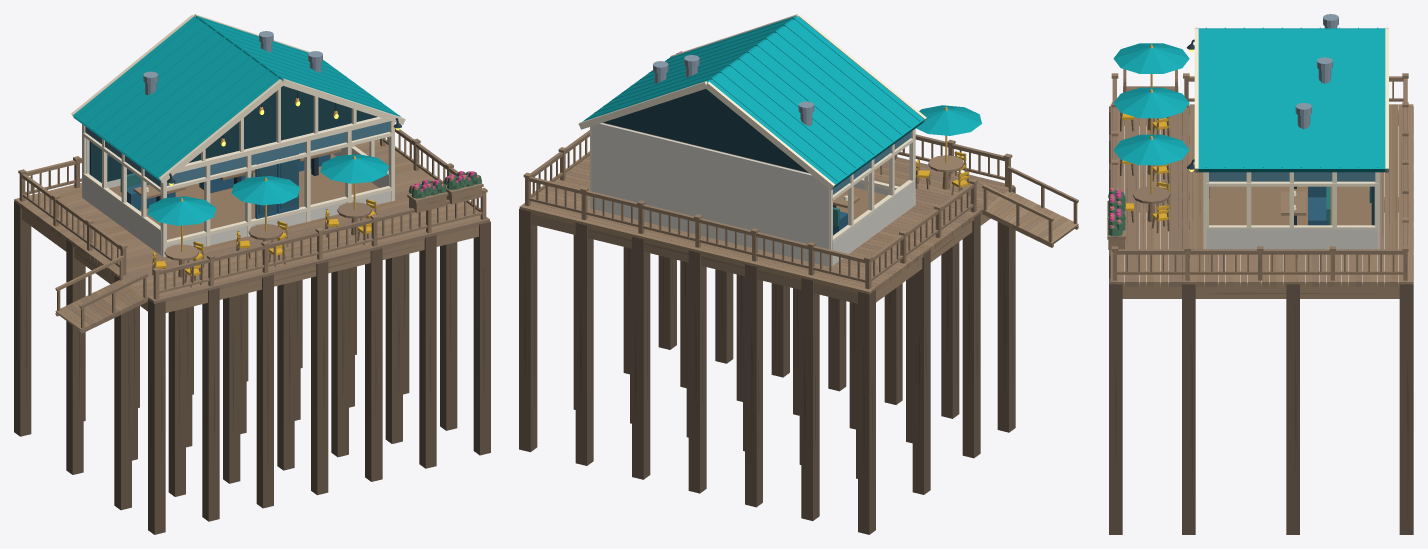
File: sea_glass_grill.glb
3 views of the same model, side by side, from view 1: azimuth 30°, elevation 25°; view 2: azimuth 150°, elevation 25°; view 3: azimuth 270°, elevation 25° (orthographic). The views are drawn at different scales.
Parts seen in each view (by area): view 1: sea_glass_grill; view 2: sea_glass_grill; view 3: sea_glass_grill.
Part boxes in pixels (x1,y1,x2,y2): sea_glass_grill: (14, 14, 490, 534); sea_glass_grill: (519, 14, 1078, 534); sea_glass_grill: (1107, 14, 1413, 534).
Size of the model in its own units: 16.82 by 15.35 by 10.19.
